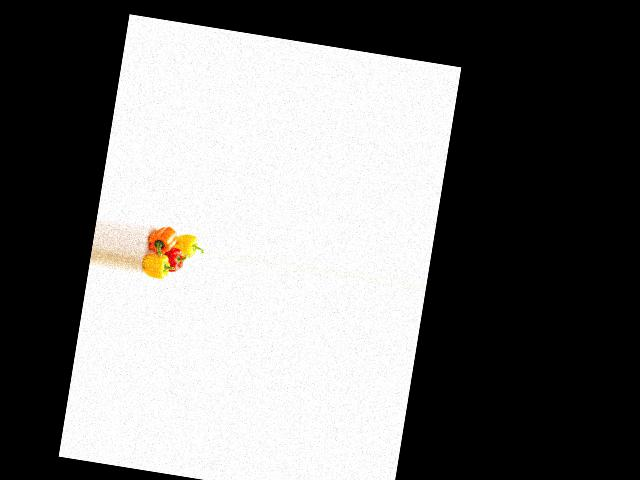bell_pepper: (140, 244, 177, 281)
